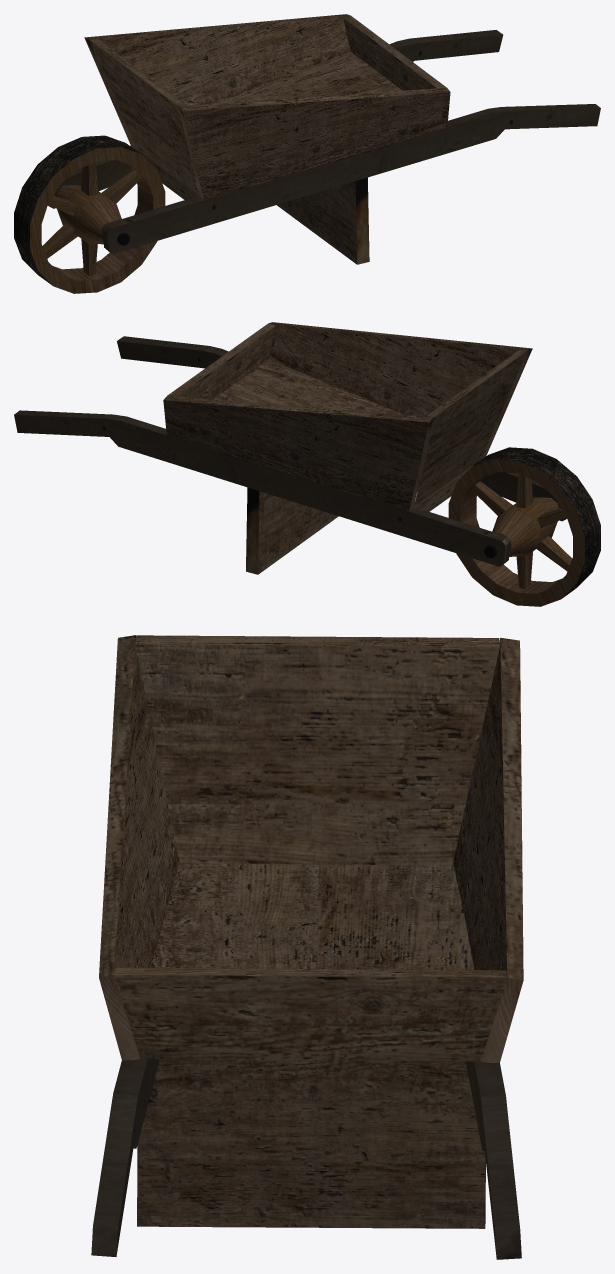
File: cart.gltf
The picture shows the model from 3 angles, top to bottom: view 1: azimuth 30°, elevation 25°; view 2: azimuth 150°, elevation 25°; view 3: azimuth 270°, elevation 25°; orthographic projection. The views are drawn at different scales.
Visible parts, largest first — view 1: Cube.004; view 2: Cube.004; view 3: Cube.004.
Boxes of the visible parts, x1,y1,x2,y2 form: Cube.004: (14, 14, 600, 293); Cube.004: (14, 322, 600, 606); Cube.004: (91, 635, 523, 1259).
Size of the model in its own units: 1.91 by 0.7069 by 0.6805.
1 material, 1 textured.
